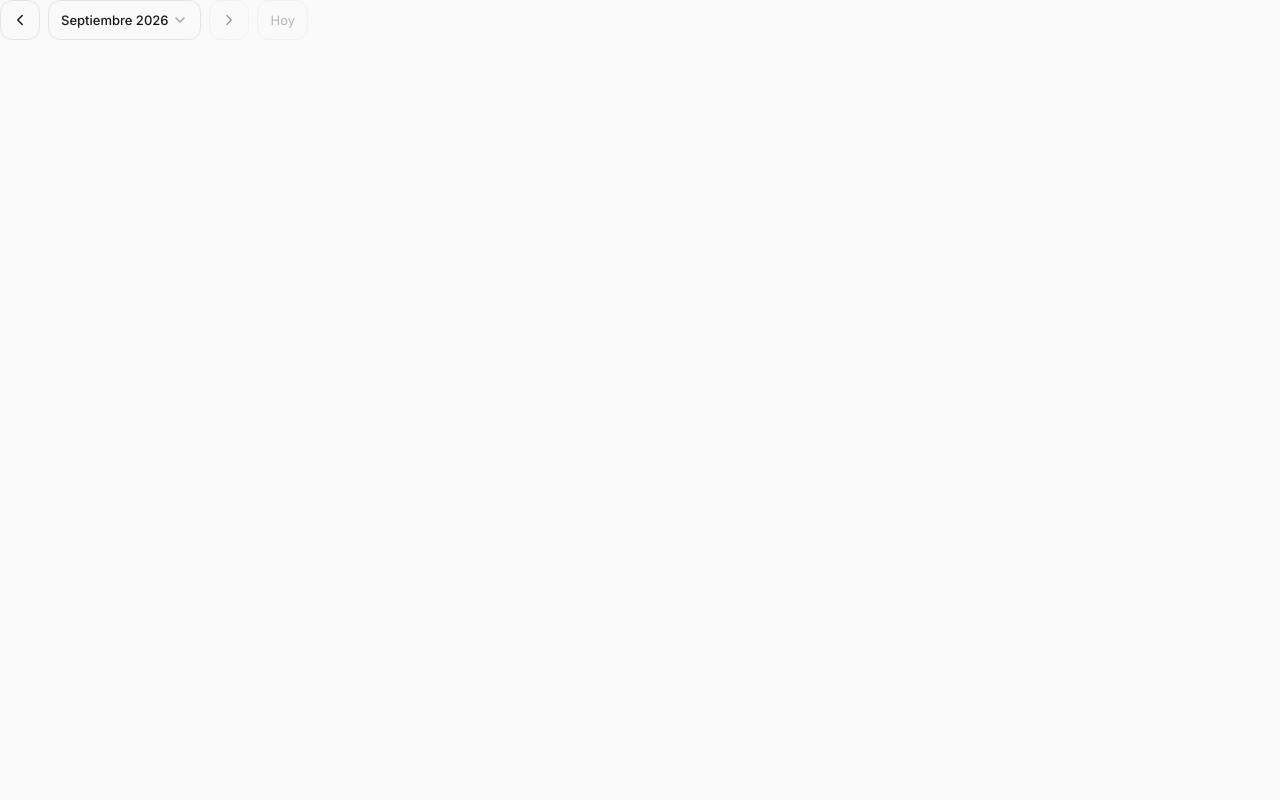
Test: MonthSelector — quick picker › disables months beyond max inside the picker
Click the button with aria-label "elegir mes": (125, 20) x1=48 y1=0 x2=202 y2=40
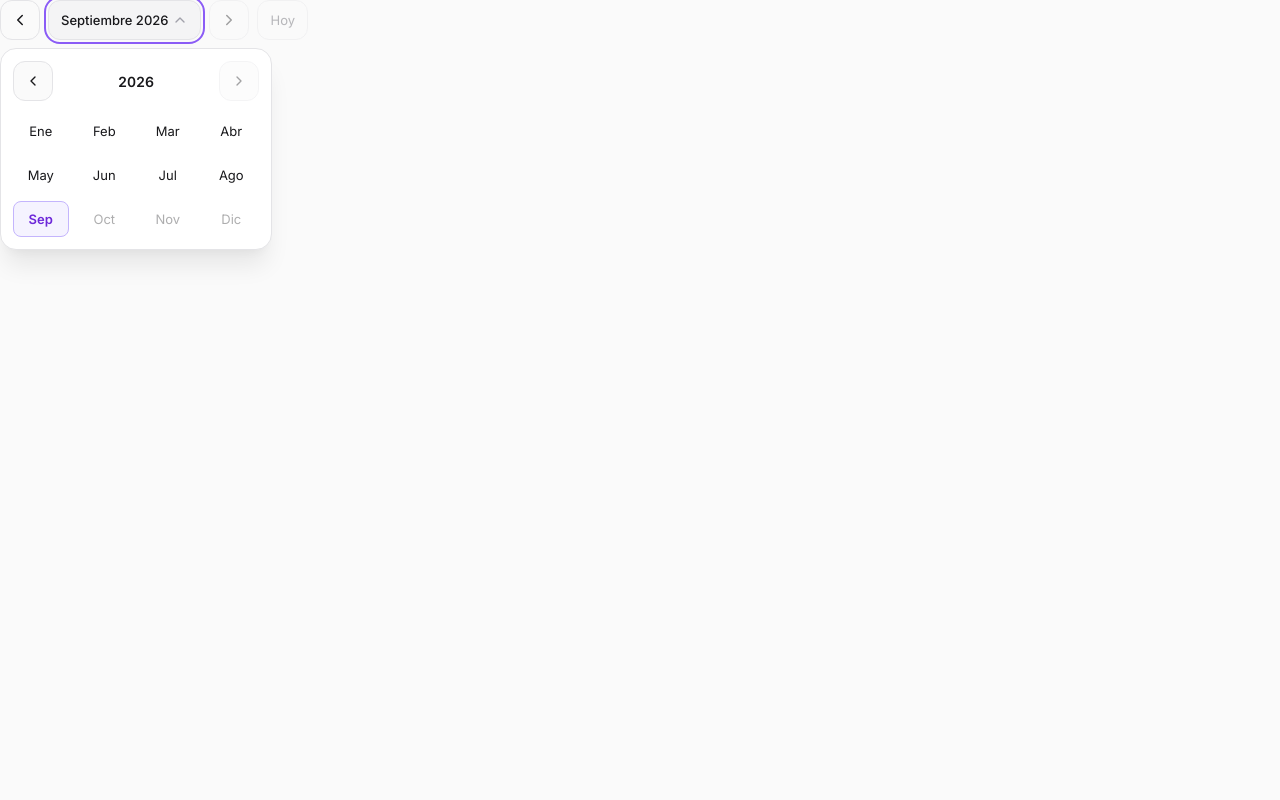
Result: the button "Oct" is disabled at x1=76 y1=201 x2=132 y2=237
Result: the button "Sep" is enabled at x1=13 y1=201 x2=68 y2=237
